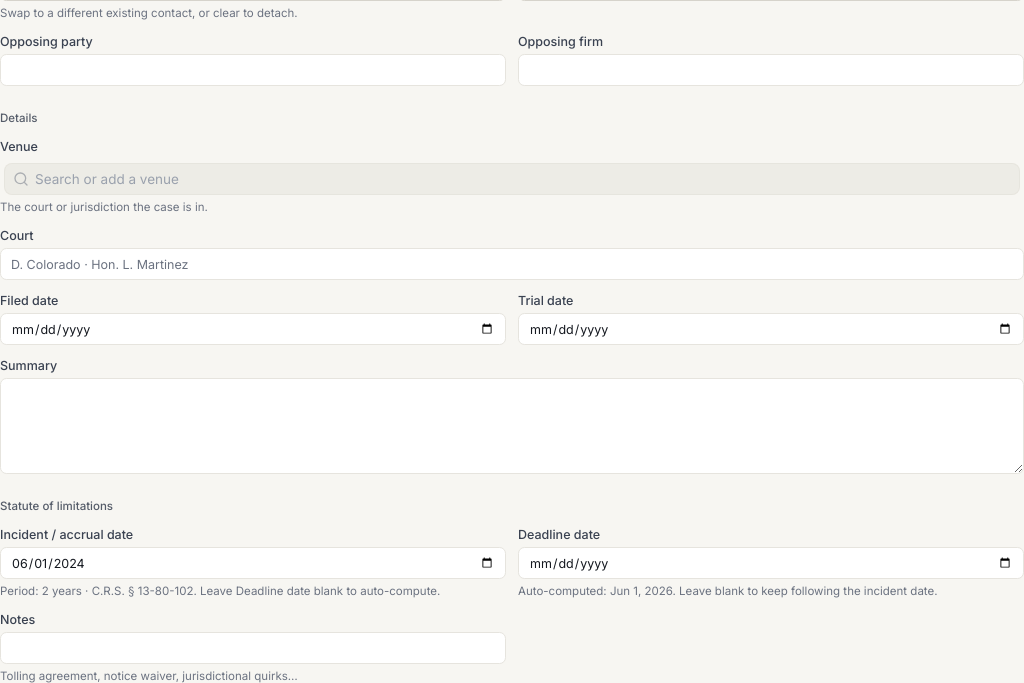
Scenario: EditMatterForm — SOL auto vs override › the preview recomputes live from the incident date and the selected area
(page scrolled)
In the date field labelled "Incident / accrual date": {"x": 253, "y": 563} [0, 547, 506, 579], type "2024-03-01"
(page scrolled)
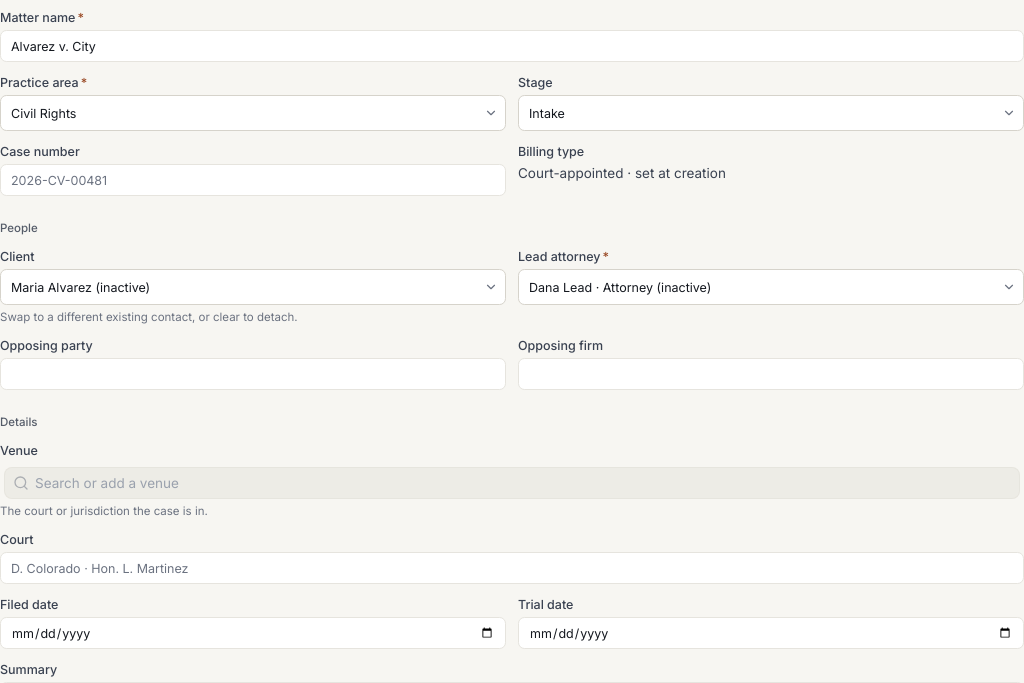
Select "Short SOL" in the dropdown labelled "Practice area*": {"x": 253, "y": 113} [0, 95, 506, 131]
(page scrolled)
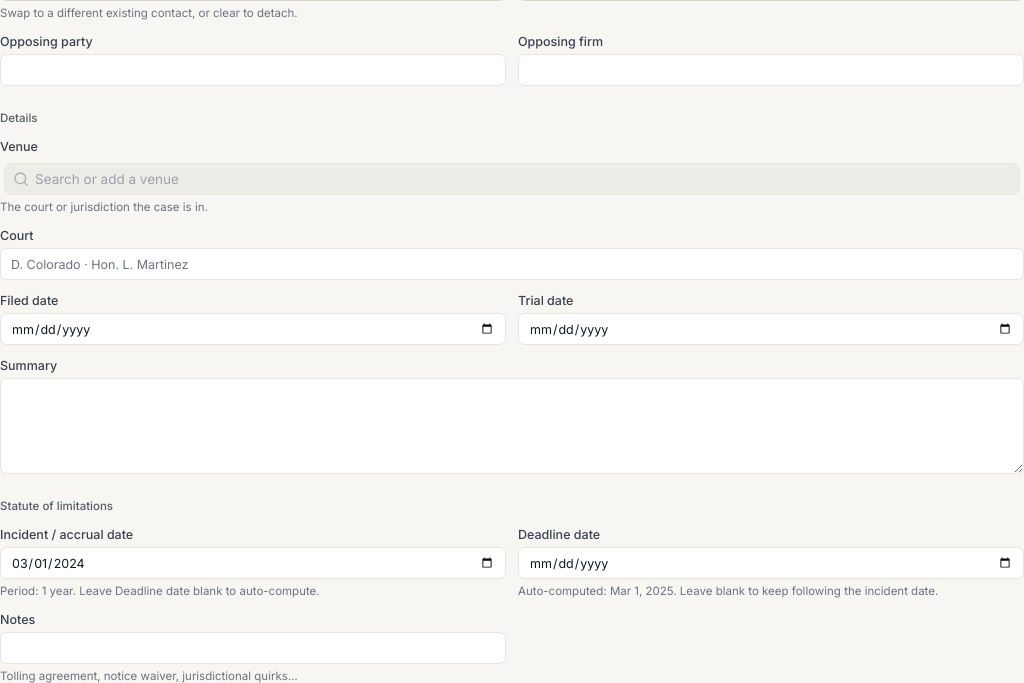
Expected: the text "Auto-computed: Mar 1, 2025" is shown, [518, 584, 938, 598]
